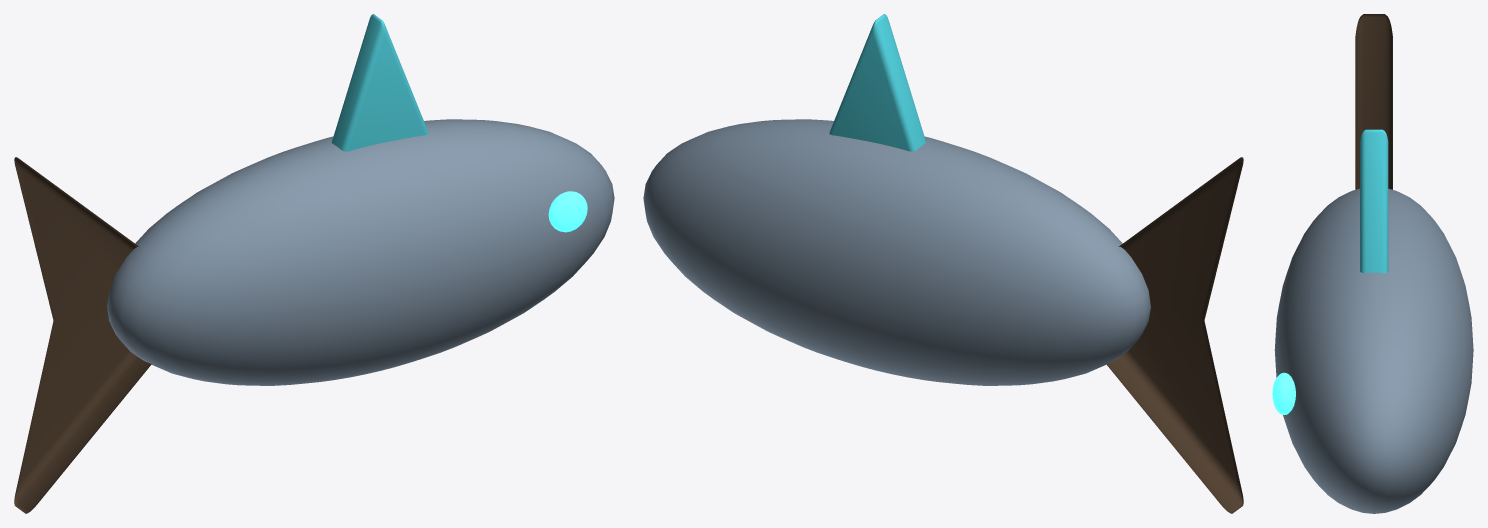
Rendered from aquatic_v2.glb.
The picture shows the model from 3 angles, left to right: view 1: azimuth 30°, elevation 25°; view 2: azimuth 150°, elevation 25°; view 3: azimuth 270°, elevation 25°; orthographic projection.
Visible parts, largest first — view 1: SHARK_BODY_PRIMARY, SHARK_TAIL_SECONDARY, SHARK_DORSAL_ACCENT, EYE_EMISSIVE; view 2: SHARK_BODY_PRIMARY, SHARK_TAIL_SECONDARY, SHARK_DORSAL_ACCENT; view 3: SHARK_BODY_PRIMARY, SHARK_TAIL_SECONDARY, SHARK_DORSAL_ACCENT, EYE_EMISSIVE.
Boxes of the visible parts, <box> form: SHARK_BODY_PRIMARY: <box>107,119,614,385</box>; SHARK_TAIL_SECONDARY: <box>14,157,151,513</box>; SHARK_DORSAL_ACCENT: <box>331,14,428,151</box>; EYE_EMISSIVE: <box>548,191,587,232</box>; SHARK_BODY_PRIMARY: <box>643,119,1150,385</box>; SHARK_TAIL_SECONDARY: <box>1106,157,1243,513</box>; SHARK_DORSAL_ACCENT: <box>829,14,926,151</box>; SHARK_BODY_PRIMARY: <box>1274,188,1473,513</box>; SHARK_TAIL_SECONDARY: <box>1355,14,1392,189</box>; SHARK_DORSAL_ACCENT: <box>1360,129,1388,273</box>; EYE_EMISSIVE: <box>1272,372,1295,414</box>.
Size of the model in its own units: 2.84 by 1.87 by 0.85.
